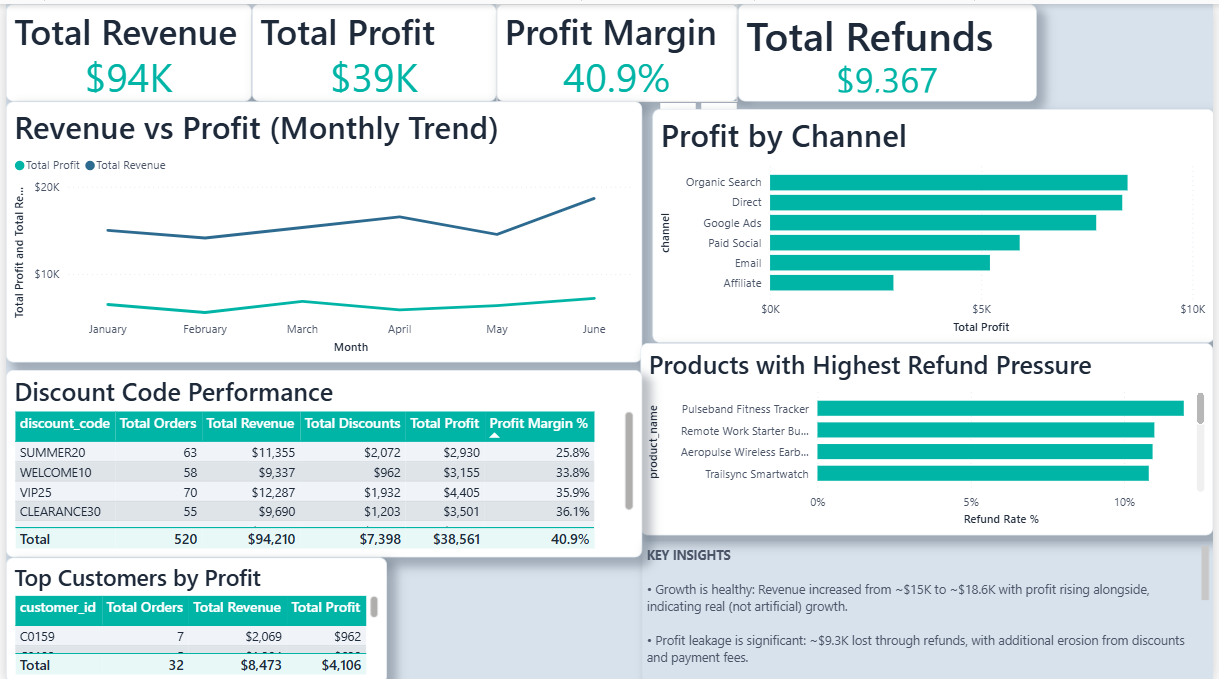

The page's visual inventory and layout, read from the dashboard file:
{"tool":"powerbi","page":{"name":"Page 1","canvas":[1280,720],"ordinal":0},"visuals":[{"type":"card","title":"Total Revenue","fields":{"Values":["fact_profitability.Total Revenue"]},"box":[0,0,260.9,103.4],"z":0},{"type":"card","title":"Total Profit","fields":{"Values":["fact_profitability.Total Profit"]},"box":[260.9,0,259.3,103.4],"z":1},{"type":"card","title":"Profit Margin","fields":{"Values":["fact_profitability.Profit Margin %"]},"box":[520.1,0,256.1,103.4],"z":2},{"type":"card","title":"Total Refunds","fields":{"Values":["fact_profitability.Total Refunds"]},"box":[776.2,0,316.5,103.4],"z":3},{"type":"lineChart","title":"Revenue vs Profit (Monthly Trend)","fields":{"Category":["fact_profitability.order_date.Variation.Date Hierarchy.Month"],"Y":["fact_profitability.Total Profit","fact_profitability.Total Revenue"]},"box":[0,103.4,674.4,276.8],"z":4},{"type":"clusteredBarChart","title":"Profit by Channel","fields":{"Category":["fact_profitability.channel"],"Y":["fact_profitability.Total Profit"]},"box":[684.9,111.7,595.9,247.7],"z":5},{"type":"clusteredBarChart","title":"Products with Highest Refund Pressure","fields":{"Category":["fact_profitability.product_name"],"Y":["fact_profitability.Refund Rate %"]},"box":[673.6,359.5,607.2,204],"z":7},{"type":"tableEx","title":"Discount Code Performance","fields":{"Values":["fact_profitability.discount_code","fact_profitability.Total Orders","fact_profitability.Total Revenue","fact_profitability.Total Discounts","fact_profitability.Total Profit","fact_profitability.Profit Margin %"]},"box":[0,388.1,674.4,198.8],"z":8},{"type":"tableEx","title":"Top Customers by Profit","fields":{"Values":["fact_profitability.customer_id","fact_profitability.Total Orders","fact_profitability.Total Revenue","fact_profitability.Total Profit"]},"box":[0,586.9,404,133.6],"z":9},{"type":"textbox","box":[674,570,606,150],"z":10}]}

Visuals, with their boxes in screenshot pixels (x1, y1, x2, y2), scaled from the page's 1280x720 canvas onto the 1219x679 screenshot:
"Total Revenue" card: locate(0, 0, 248, 98)
"Total Profit" card: locate(248, 0, 495, 98)
"Profit Margin" card: locate(495, 0, 739, 98)
"Total Refunds" card: locate(739, 0, 1041, 98)
"Revenue vs Profit (Monthly Trend)" lineChart: locate(0, 98, 642, 359)
"Profit by Channel" clusteredBarChart: locate(652, 105, 1218, 339)
"Products with Highest Refund Pressure" clusteredBarChart: locate(641, 339, 1218, 531)
"Discount Code Performance" tableEx: locate(0, 366, 642, 553)
"Top Customers by Profit" tableEx: locate(0, 553, 385, 678)
textbox: locate(642, 538, 1218, 678)
